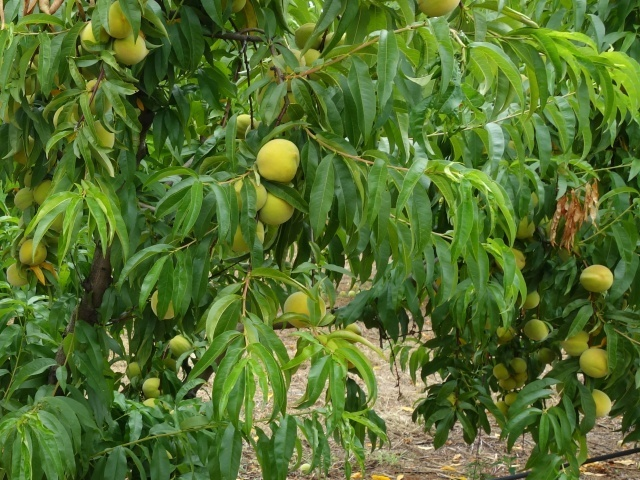peach: (253, 136, 304, 187), (279, 287, 328, 331), (95, 1, 138, 43), (224, 176, 271, 214), (227, 216, 269, 258), (108, 27, 150, 68), (257, 187, 297, 228), (79, 77, 117, 119), (578, 342, 616, 382), (558, 322, 595, 361), (576, 260, 617, 295), (146, 283, 178, 325), (290, 18, 328, 53), (76, 16, 107, 58), (14, 235, 50, 269), (584, 386, 617, 421), (496, 242, 531, 275), (413, 1, 462, 22), (2, 259, 35, 290), (231, 112, 262, 142), (521, 315, 551, 345), (296, 43, 327, 72), (512, 213, 541, 243), (166, 331, 194, 362), (9, 183, 37, 213), (31, 176, 61, 204), (517, 284, 545, 312), (138, 375, 165, 401), (123, 355, 145, 383), (490, 359, 512, 383), (493, 321, 516, 343), (140, 392, 162, 414), (536, 344, 556, 368), (509, 355, 530, 377), (490, 398, 512, 418), (500, 390, 521, 408)
